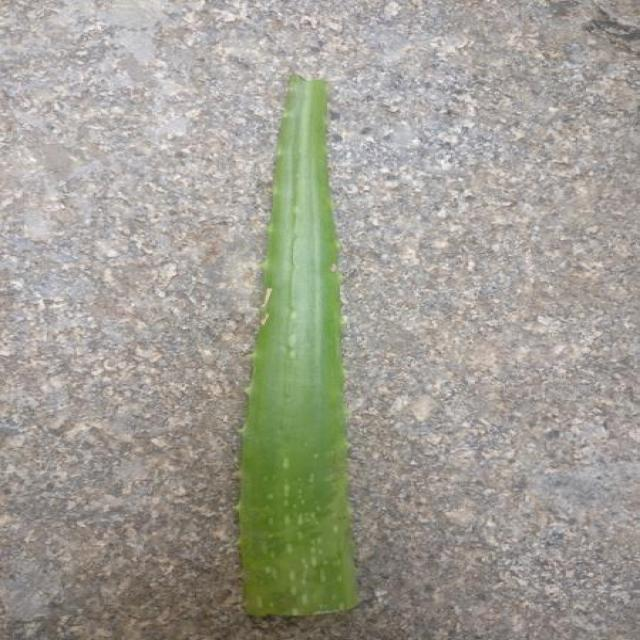alovera: (238, 75, 358, 616)
